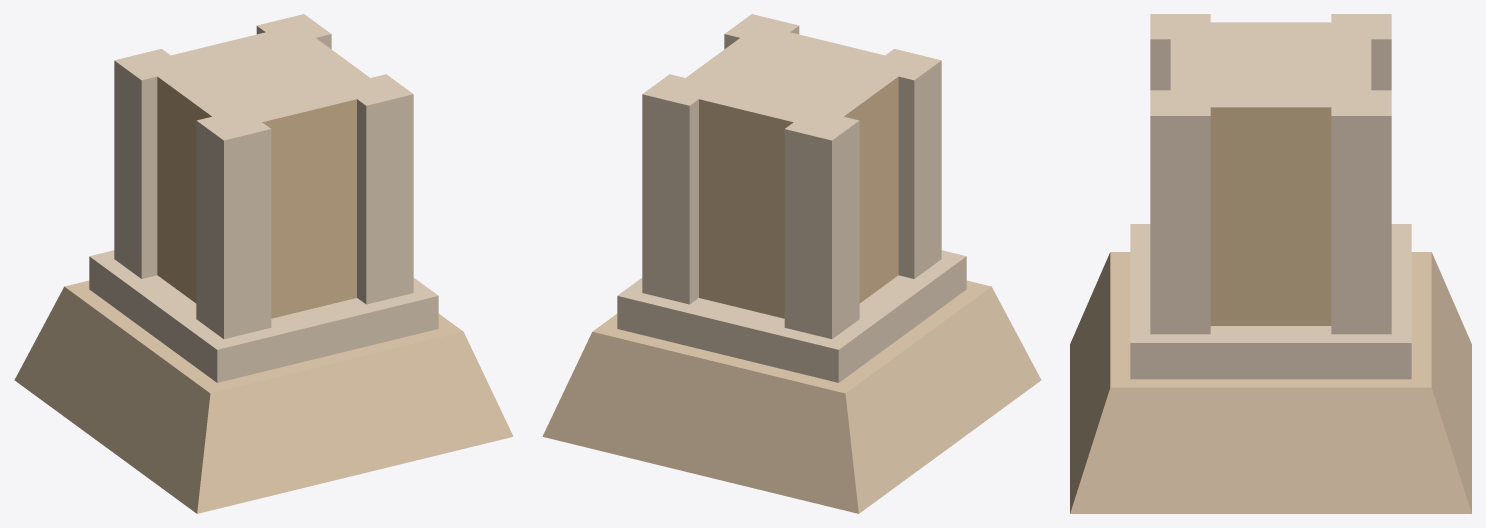
File: temple_Pillar_Large_Base.glb
3 renders of one model, left to right at view 1: azimuth 30°, elevation 25°; view 2: azimuth 150°, elevation 25°; view 3: azimuth 270°, elevation 25°, orthographic. The views are drawn at different scales.
Parts seen in each view (by area): view 1: object1; view 2: object1; view 3: object1.
Part boxes in pixels (left/top/right/bottom): object1: left=14, top=14, right=513, bottom=513; object1: left=542, top=14, right=1041, bottom=513; object1: left=1070, top=14, right=1471, bottom=513.
Size of the model in its own units: 1 by 1 by 1.
